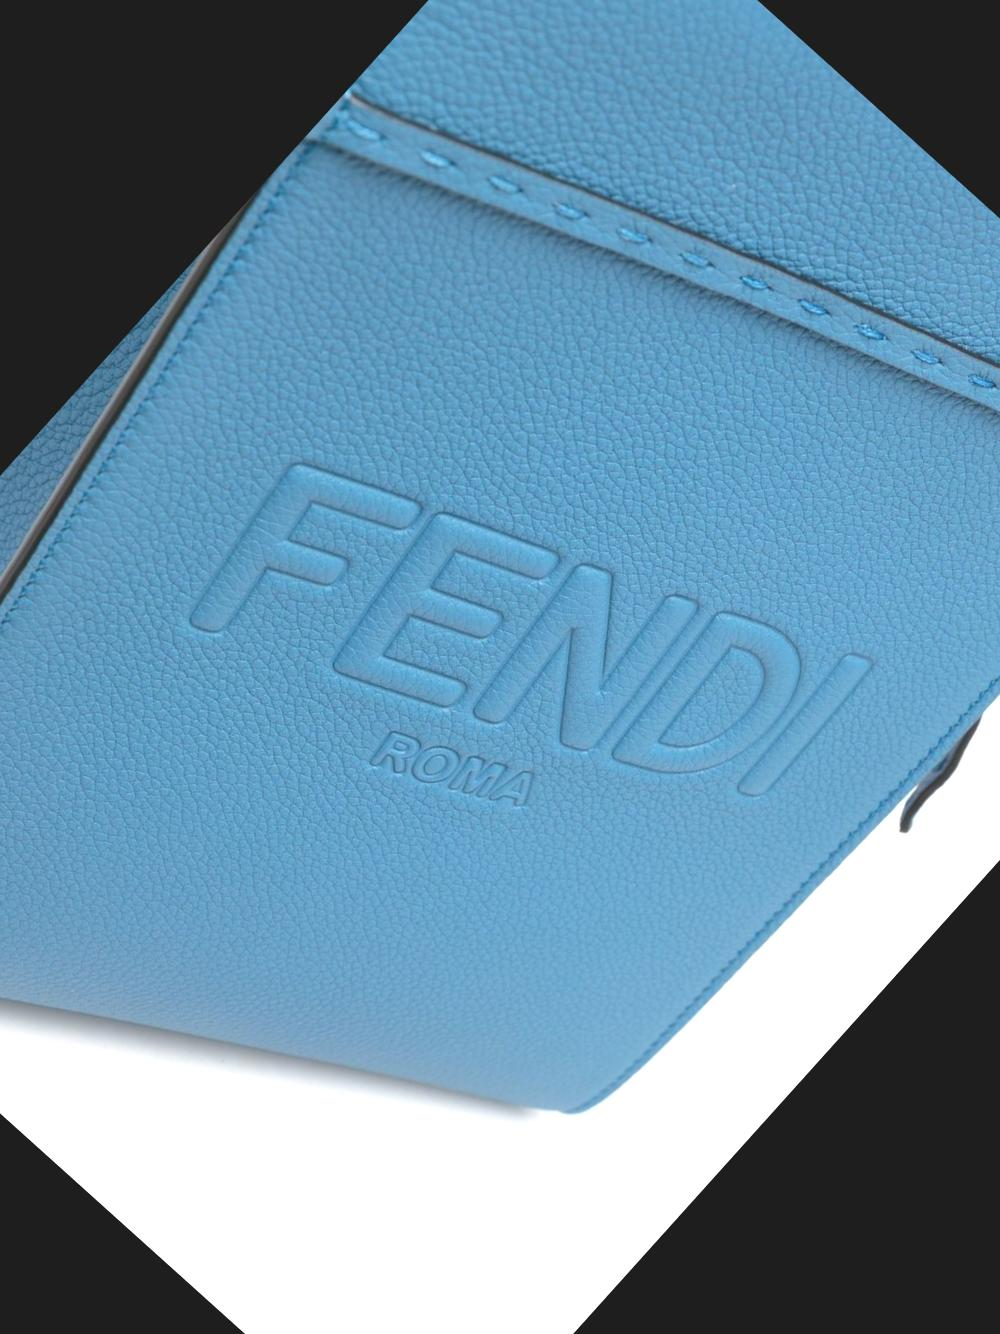FENDI: (163, 278, 886, 989)
